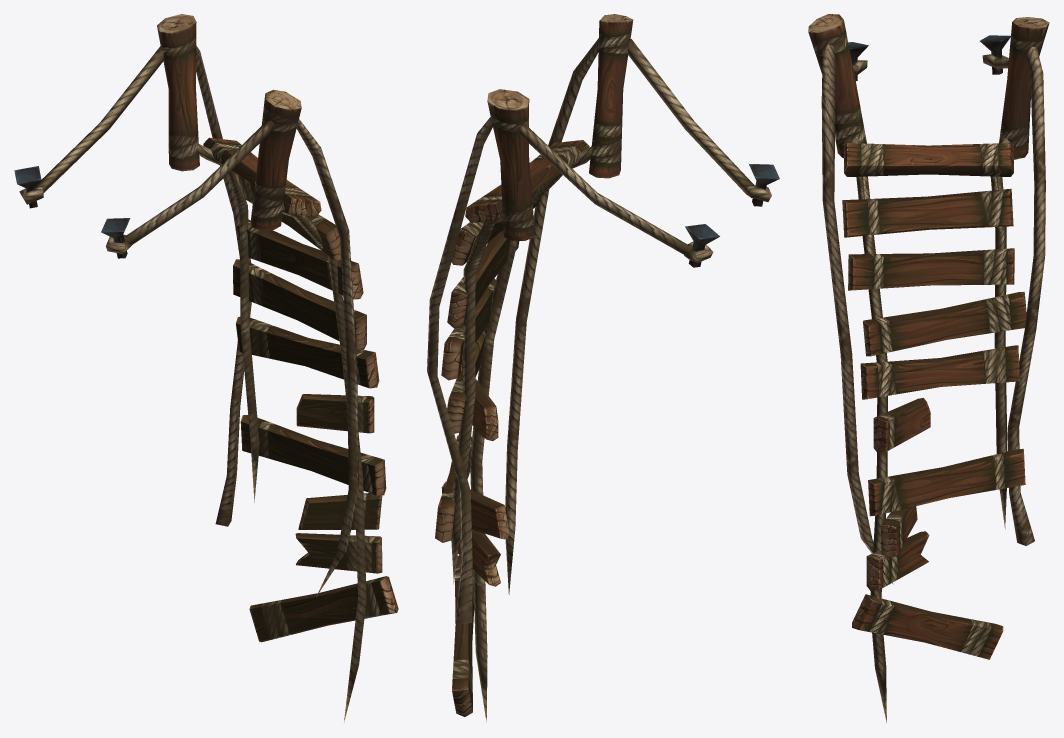
The model's file is rope_bridge_ruin_r_01.fbx.
3 views of the same model, side by side, from view 1: azimuth 30°, elevation 25°; view 2: azimuth 150°, elevation 25°; view 3: azimuth 270°, elevation 25° (orthographic). The views are drawn at different scales.
Parts seen in each view (by area): view 1: rope_bridge_ruin_r_01; view 2: rope_bridge_ruin_r_01; view 3: rope_bridge_ruin_r_01.
Boxes of the visible parts, box(x1,y1,x2,y2) form: rope_bridge_ruin_r_01: box(14, 14, 398, 722); rope_bridge_ruin_r_01: box(427, 14, 779, 721); rope_bridge_ruin_r_01: box(808, 14, 1049, 722).
Bounding box in the file's own units: 276 × 563 × 186.
